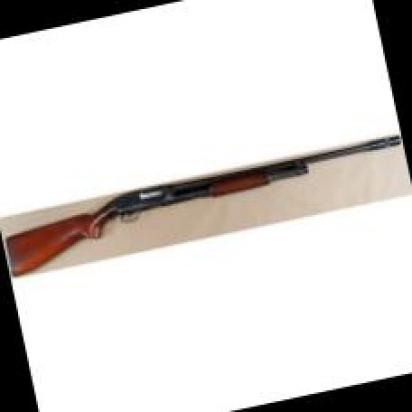Gun: (0, 134, 412, 278)
